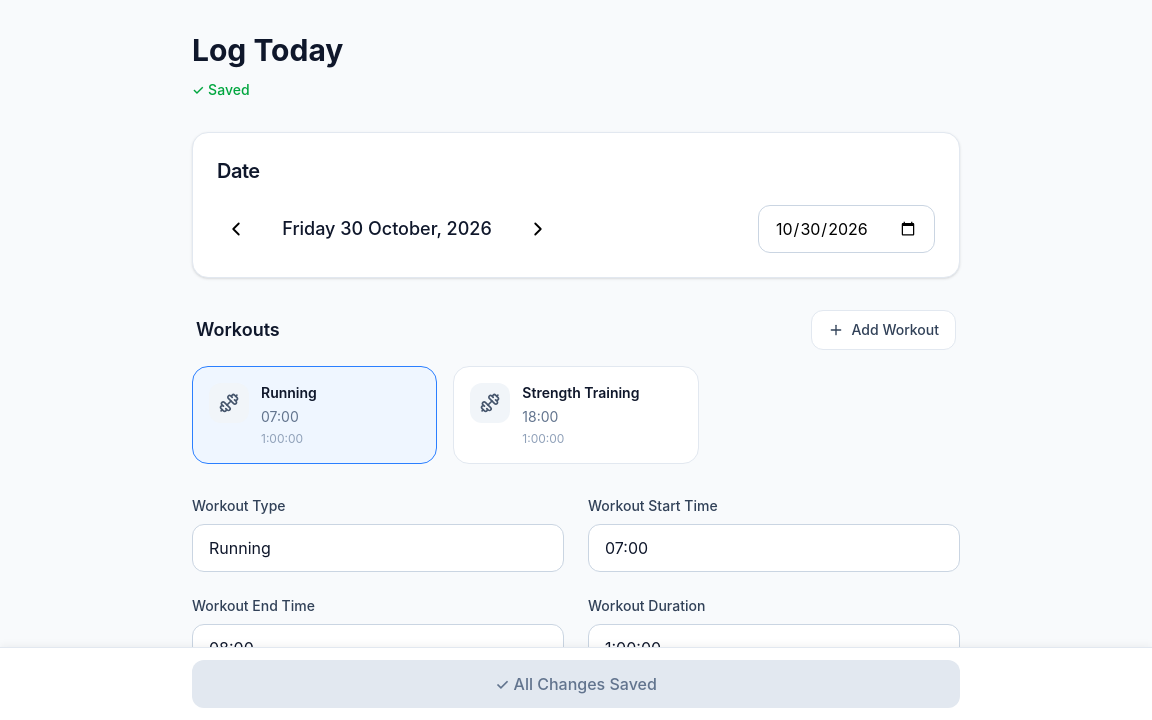
Scenario: LogWorkoutMetrics › selects another workout
The width and height of the screenshot is (1152, 720).
Expected: the field labelled "Workout Type" holds "Running", [192, 524, 564, 572]
Step 1. Click the button "Strength Training 18:00 1:00:00" → [576, 415], box [453, 366, 699, 464]
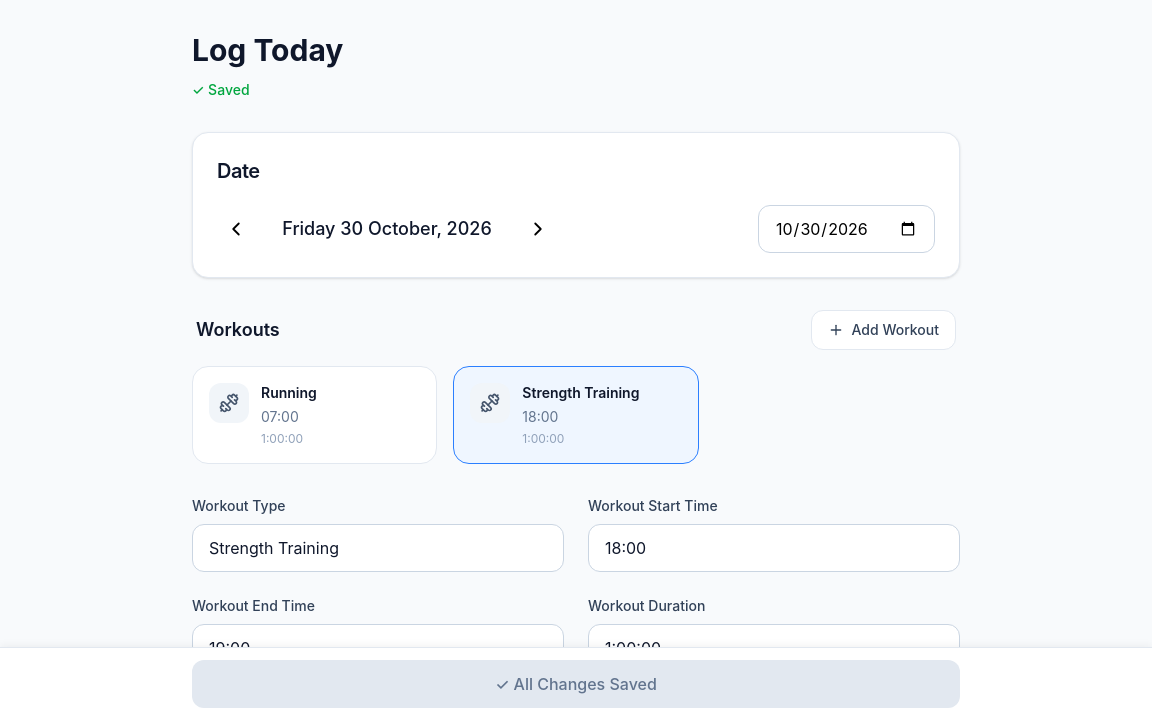
Expected: the field labelled "Workout Type" holds "Strength Training", [192, 524, 564, 572]
Expected: the field labelled "Workout Start Time" holds "18:00", [588, 524, 960, 572]
